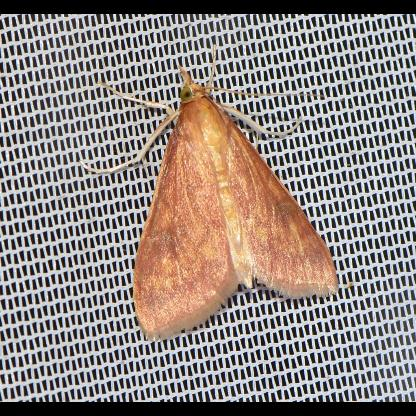Asian Corn Borer Moth: (76, 42, 341, 344)
